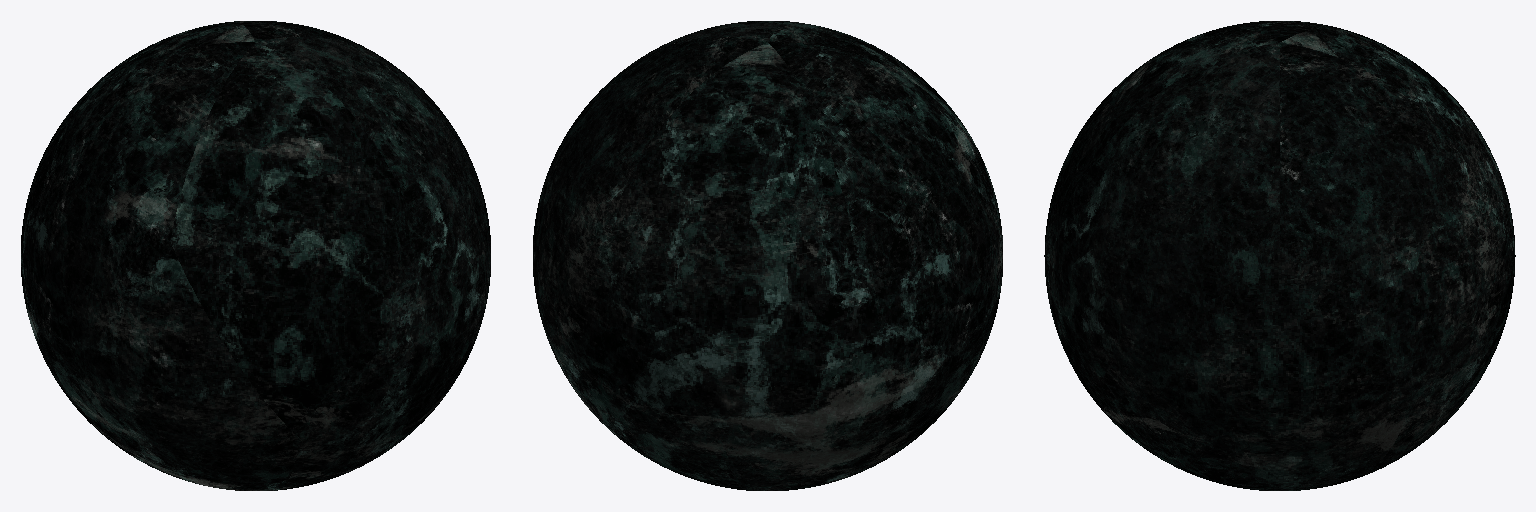
3 renders of one model, left to right at view 1: azimuth 30°, elevation 25°; view 2: azimuth 150°, elevation 25°; view 3: azimuth 270°, elevation 25°, orthographic.
Visible parts, largest first — view 1: Icosphere; view 2: Icosphere; view 3: Icosphere.
Boxes of the visible parts, x1=… form: Icosphere: x1=21, y1=21, x2=490, y2=490; Icosphere: x1=533, y1=21, x2=1002, y2=490; Icosphere: x1=1044, y1=21, x2=1515, y2=490.
Size of the model in its own units: 2 by 2 by 2.
1 materials, 1 textured.